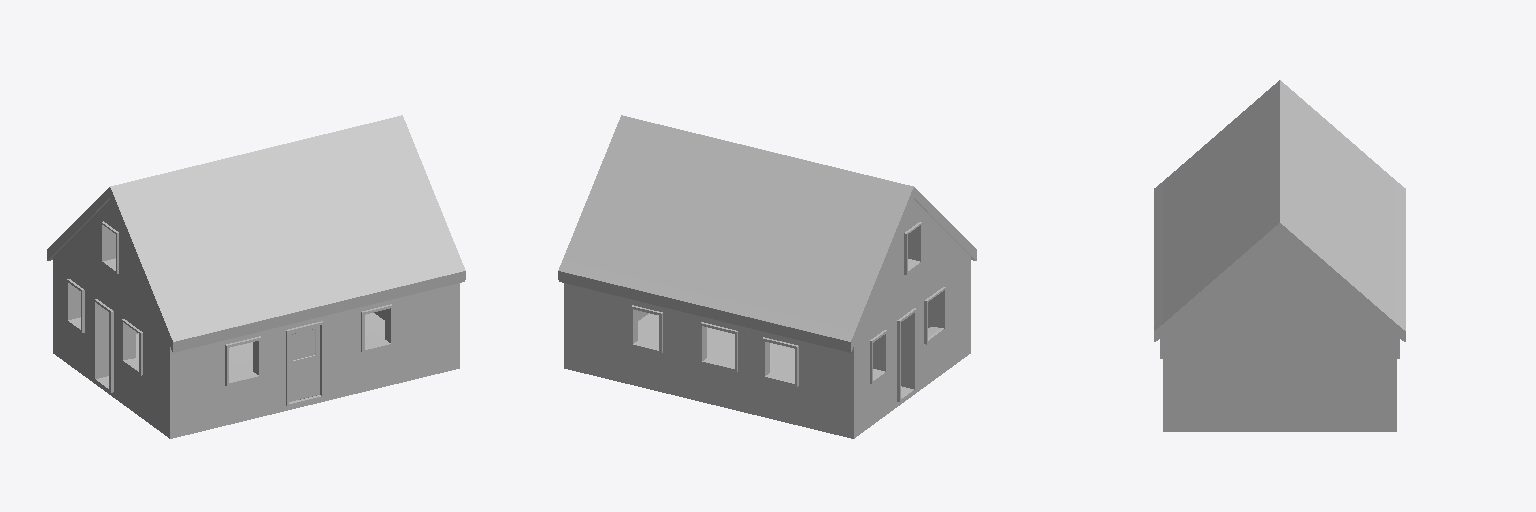
Rendered from HauntedShack.obj.
3 views of the same model, side by side, from view 1: azimuth 30°, elevation 25°; view 2: azimuth 150°, elevation 25°; view 3: azimuth 270°, elevation 25° (orthographic).
Parts seen in each view (by area): view 1: House_grp Roof_geo, HouseMain_geo House_grp, House_grp Door_geo; view 2: House_grp Roof_geo, HouseMain_geo House_grp; view 3: House_grp Roof_geo, HouseMain_geo House_grp.
Boxes of the visible parts, <box> form: House_grp Roof_geo: <box>47,115,465,352</box>; HouseMain_geo House_grp: <box>53,199,459,438</box>; House_grp Door_geo: <box>289,326,319,401</box>; House_grp Roof_geo: <box>558,115,976,352</box>; HouseMain_geo House_grp: <box>564,199,970,438</box>; House_grp Roof_geo: <box>1154,80,1405,341</box>; HouseMain_geo House_grp: <box>1160,234,1399,431</box>.
Size of the model in its own units: 1358 by 929 by 1013.